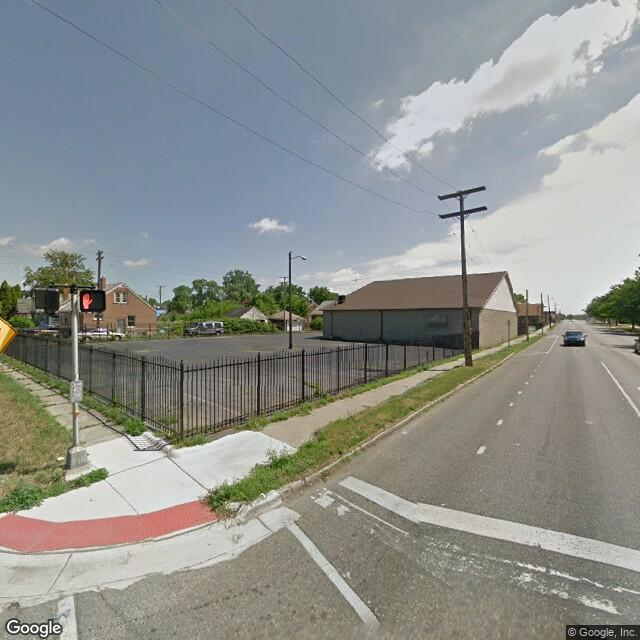litter: (51, 448, 68, 465)
